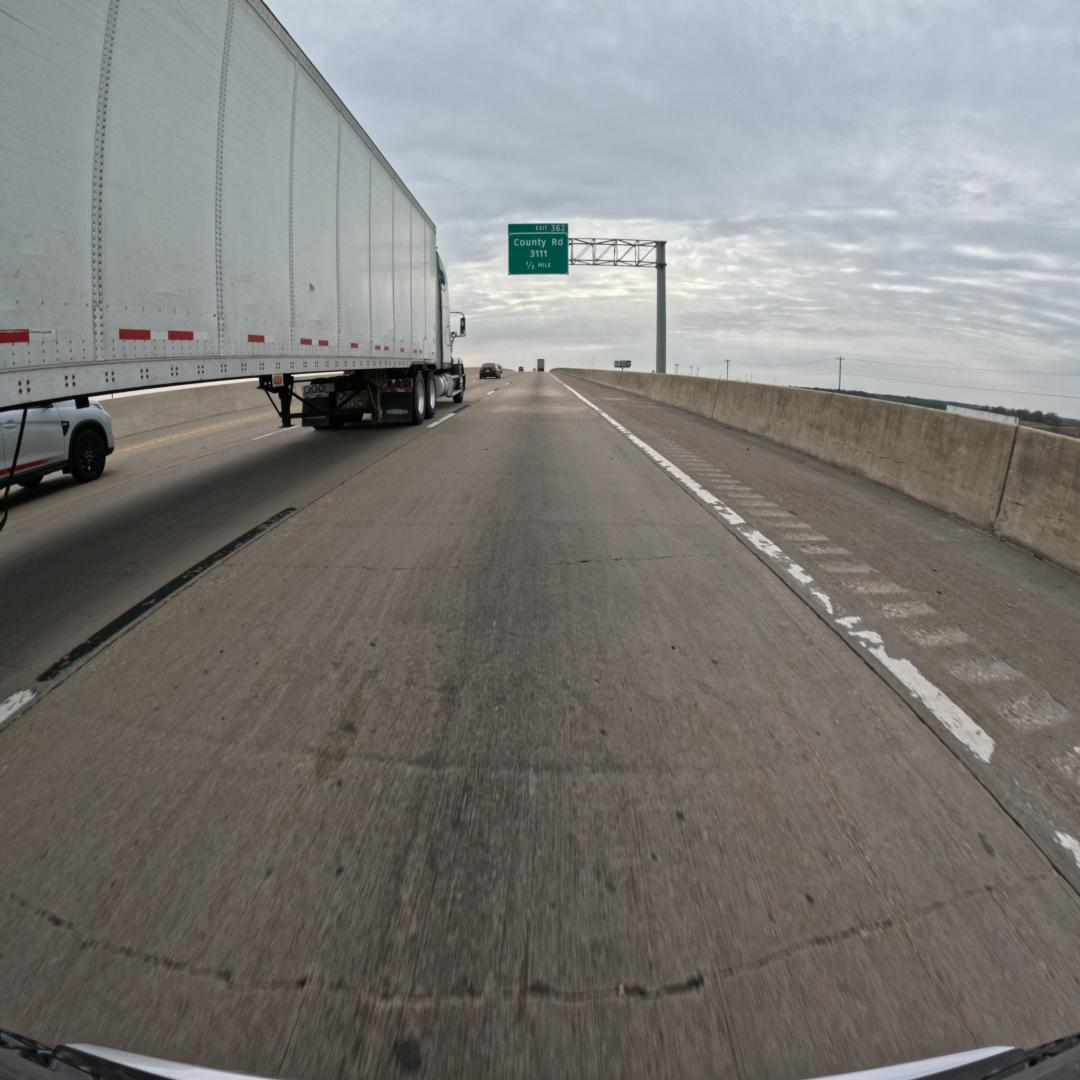lane0: (0, 376, 1080, 1077)
lane1: (0, 428, 424, 727)
